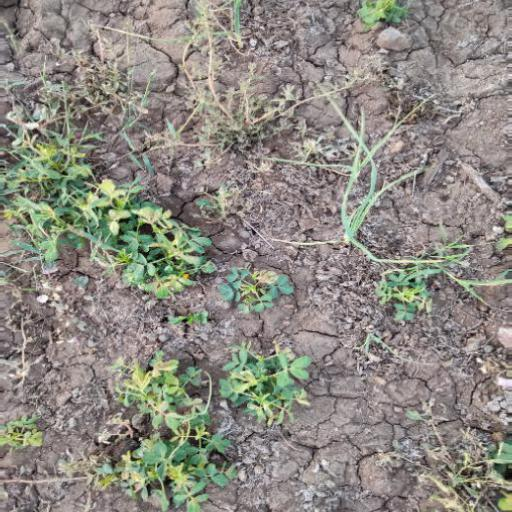weed: (31, 120, 283, 313), (316, 100, 466, 388), (80, 336, 312, 502)
